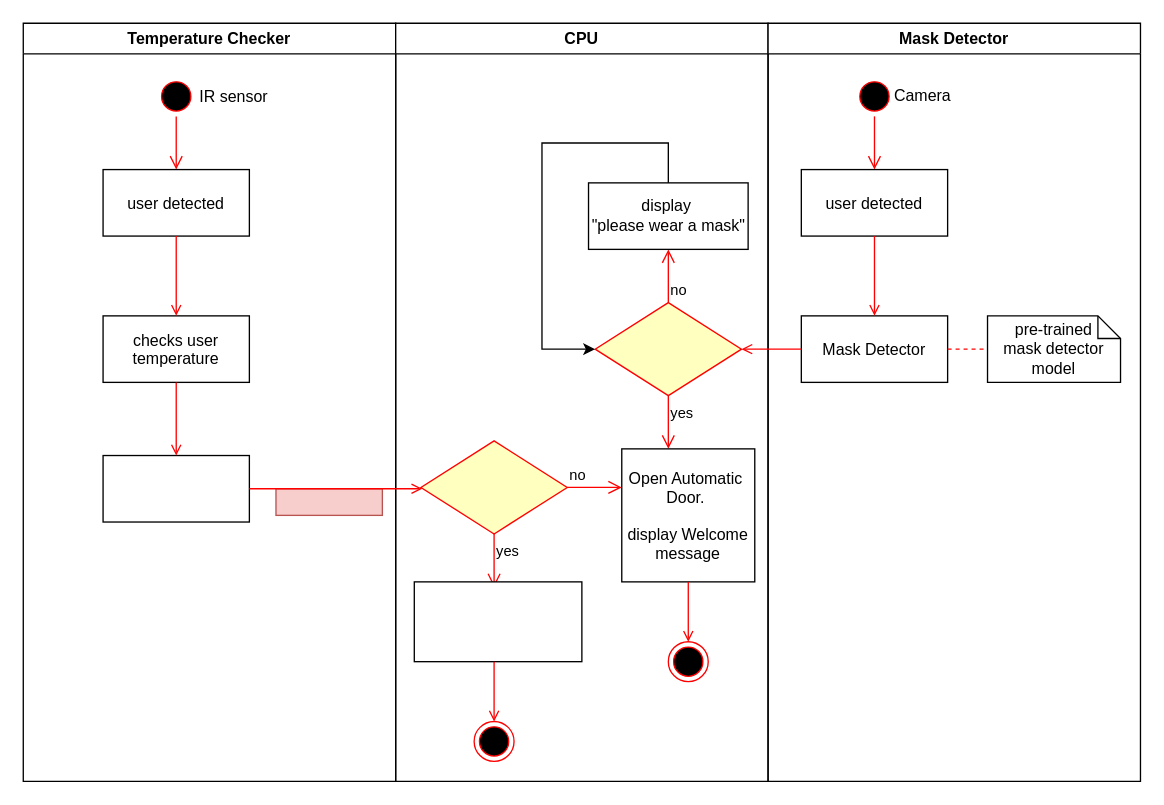
Image size: 1164x805. Some labels were removed from this diagram. The box of each missing label's shape, as (x1, y1, x2, y2) in pixels:
display fever warning message, notify administrator: (413, 581, 582, 662)
has a fever?: (420, 440, 567, 534)
sends temperature data: (102, 454, 249, 522)
temperature: (275, 487, 382, 515)
wearing a mask?: (594, 301, 741, 396)
